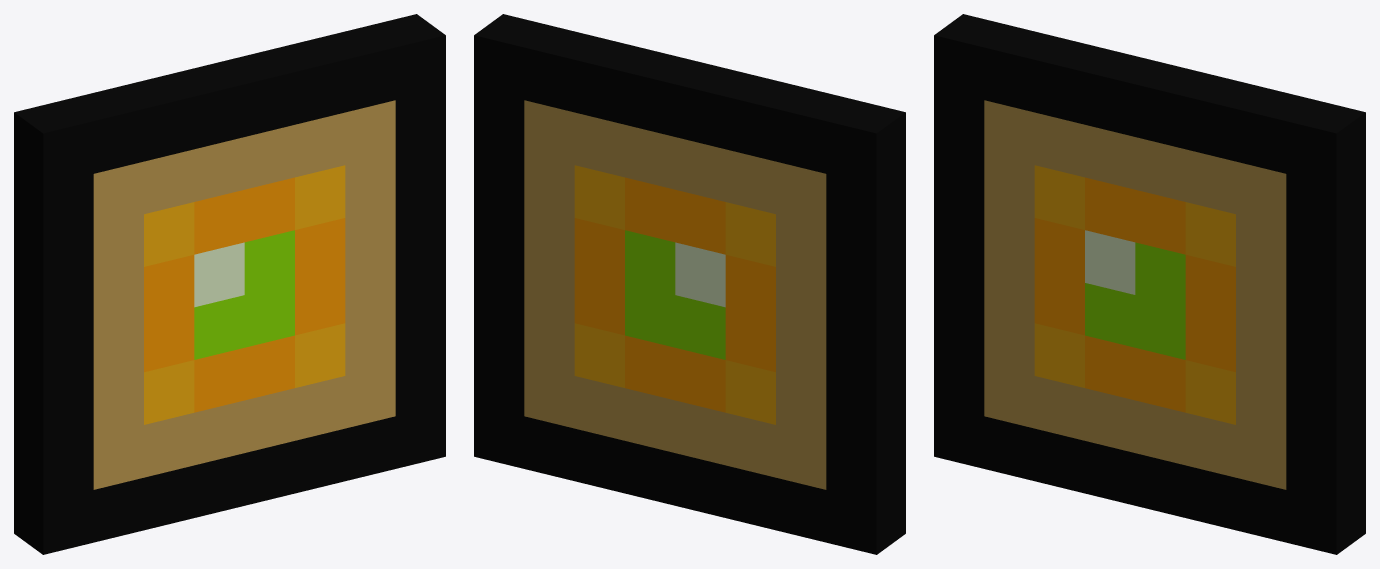
The model's file is Wildcat Painting.glb.
The picture shows the model from 3 angles, left to right: view 1: azimuth 30°, elevation 25°; view 2: azimuth 150°, elevation 25°; view 3: azimuth 330°, elevation 25°; orthographic projection.
Parts seen in each view (by area): view 1: generated(Clone); view 2: generated(Clone); view 3: generated(Clone).
Boxes of the visible parts, x1,y1,x2,y2 form: generated(Clone): (14, 14, 445, 554); generated(Clone): (474, 14, 905, 554); generated(Clone): (934, 14, 1365, 554).
Size of the model in its own units: 8 by 8 by 1.
1 material, 1 textured.
